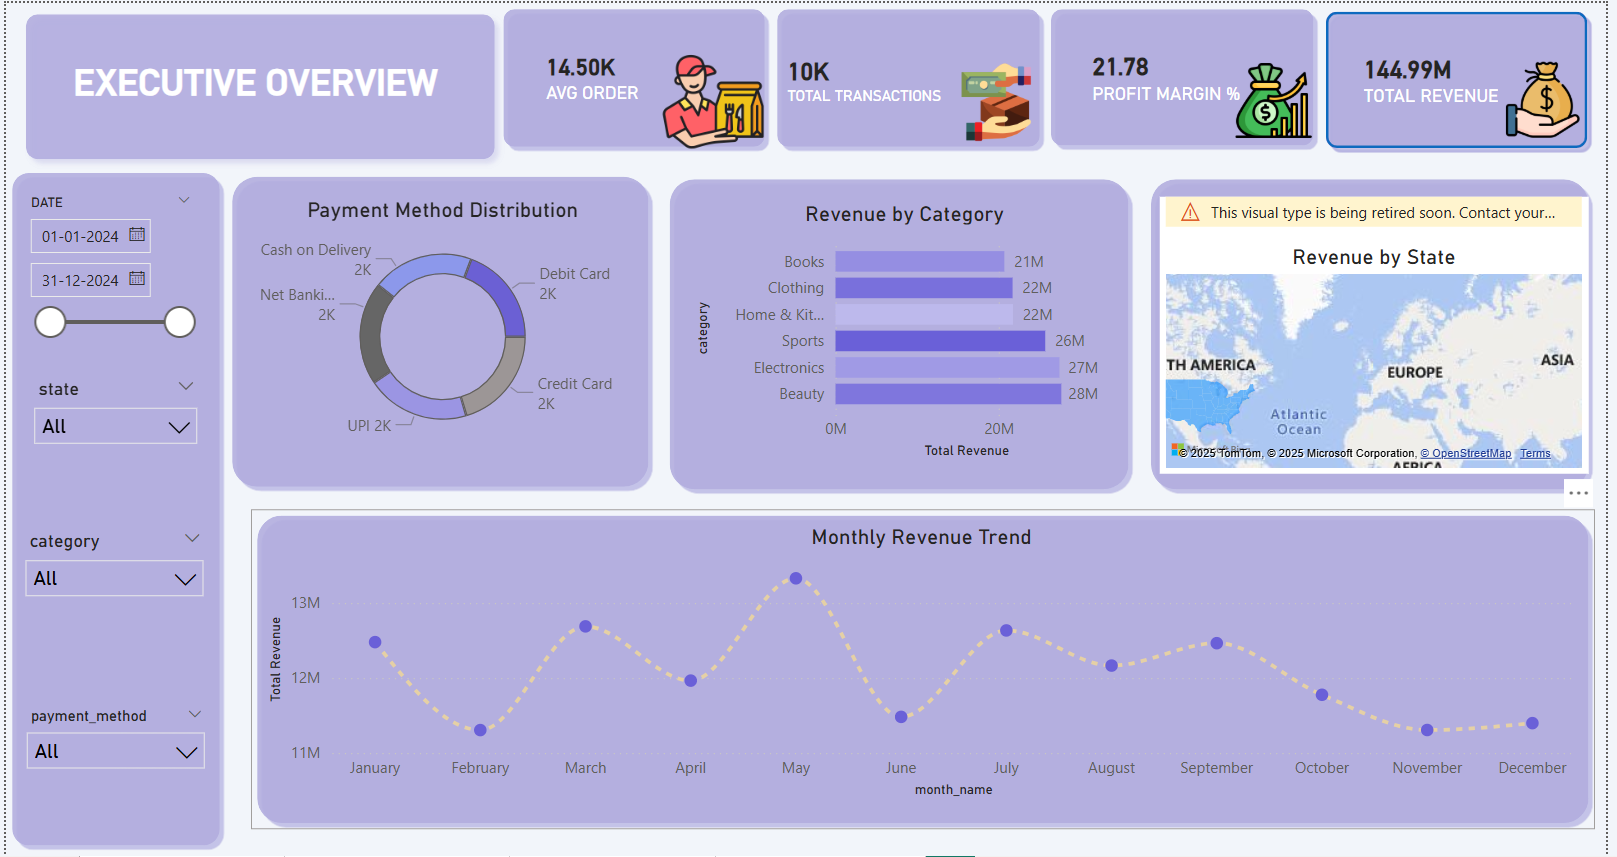

The dashboard page shown, as its layout file describes it:
{"tool":"powerbi","page":{"name":"EXECUTIVE OVERVIEW","canvas":[1280,720],"ordinal":0},"visuals":[{"type":"cardVisual","fields":{"Data":["warehouse fact_sales.Total Revenue"]},"box":[1076.3,37.5,203.4,180.3],"z":0},{"type":"cardVisual","fields":{"Data":["warehouse fact_sales.Total Transactions"]},"box":[25.7,572.9,230,107.1],"z":1000},{"type":"cardVisual","fields":{"Data":["warehouse fact_sales.Average Order Value"]},"box":[927.7,27.4,167.4,190.4],"z":2000},{"type":"cardVisual","fields":{"Data":["warehouse fact_sales.Profit Margin %"]},"box":[255.7,495.7,214.3,204.3],"z":3000},{"type":"lineChart","title":"Monthly Revenue Trend","fields":{"Category":["warehouse dim_date.month_name"],"Y":["warehouse fact_sales.Total Revenue"]},"box":[26,72.1,489.1,262.6],"z":4000},{"type":"clusteredBarChart","title":"Revenue by Category","fields":{"Category":["warehouse dim_products.category"],"Y":["warehouse fact_sales.Total Revenue"]},"box":[546.8,53.4,380.9,265.5],"z":5000},{"type":"donutChart","title":"Payment Method Distribution","fields":{"Category":["warehouse dim_payment_method.payment_method_name"],"Y":["warehouse fact_sales.Total Transactions"]},"box":[558.3,337.6,327.5,264],"z":6000},{"type":"filledMap","title":"Revenue by State","fields":{"Category":["warehouse dim_customers.state"],"Y":["warehouse fact_sales.Total Revenue"]},"box":[588.6,336.2,297.2,265.5],"z":7000},{"type":"textbox","box":[0,13,470.3,80.8],"z":8000},{"type":"slicer","title":"State","fields":{"Values":["warehouse dim_customers.state"]},"box":[546.8,389.5,167.4,278.5],"z":9000},{"type":"slicer","title":"Product Category","fields":{"Values":["warehouse dim_products.category"]},"box":[1037.3,455.9,213.5,258.3],"z":10000},{"type":"slicer","title":"Payment Method","fields":{"Values":["warehouse dim_payment_method.payment_method_name"]},"box":[1037,323,214,236],"z":11000},{"type":"slicer","title":"Date Range","fields":{"Values":["warehouse dim_date.full_date"]},"box":[630,558.6,372.9,141.4],"z":12000}]}

Visuals, with their boxes on the page's 1280x720 design canvas (x1, y1, x2, y2). These are canvas units, not pixel positions in the 1617x857 screenshot, which may show the page scaled, cropped or inside an application window:
cardVisual - warehouse fact_sales.Total Revenue: bbox(1076, 38, 1280, 218)
cardVisual - warehouse fact_sales.Total Transactions: bbox(26, 573, 256, 680)
cardVisual - warehouse fact_sales.Average Order Value: bbox(928, 27, 1095, 218)
cardVisual - warehouse fact_sales.Profit Margin %: bbox(256, 496, 470, 700)
"Monthly Revenue Trend" lineChart: bbox(26, 72, 515, 335)
"Revenue by Category" clusteredBarChart: bbox(547, 53, 928, 319)
"Payment Method Distribution" donutChart: bbox(558, 338, 886, 602)
"Revenue by State" filledMap: bbox(589, 336, 886, 602)
textbox: bbox(0, 13, 470, 94)
"State" slicer: bbox(547, 390, 714, 668)
"Product Category" slicer: bbox(1037, 456, 1251, 714)
"Payment Method" slicer: bbox(1037, 323, 1251, 559)
"Date Range" slicer: bbox(630, 559, 1003, 700)
